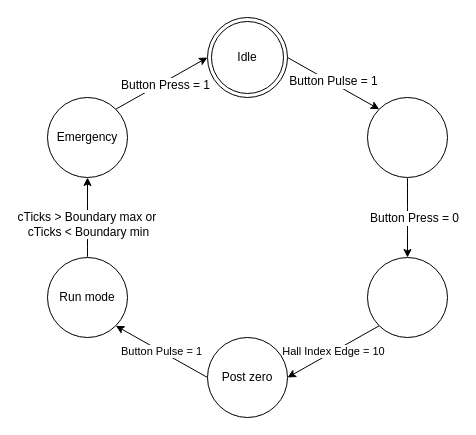
Image size: 476x435. Some labels were removed from this diagram. Here are the shapes that lost their labels. From the top down, the centre of each, then its label:
At [407,137]: "Zero release".
At [407,297]: "Zero motor".
